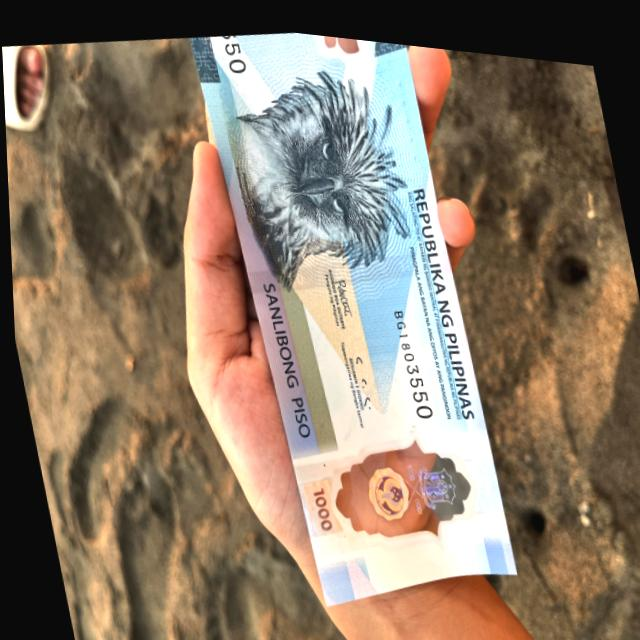clear_window: (286, 403, 519, 589)
eagle: (214, 64, 422, 321)
